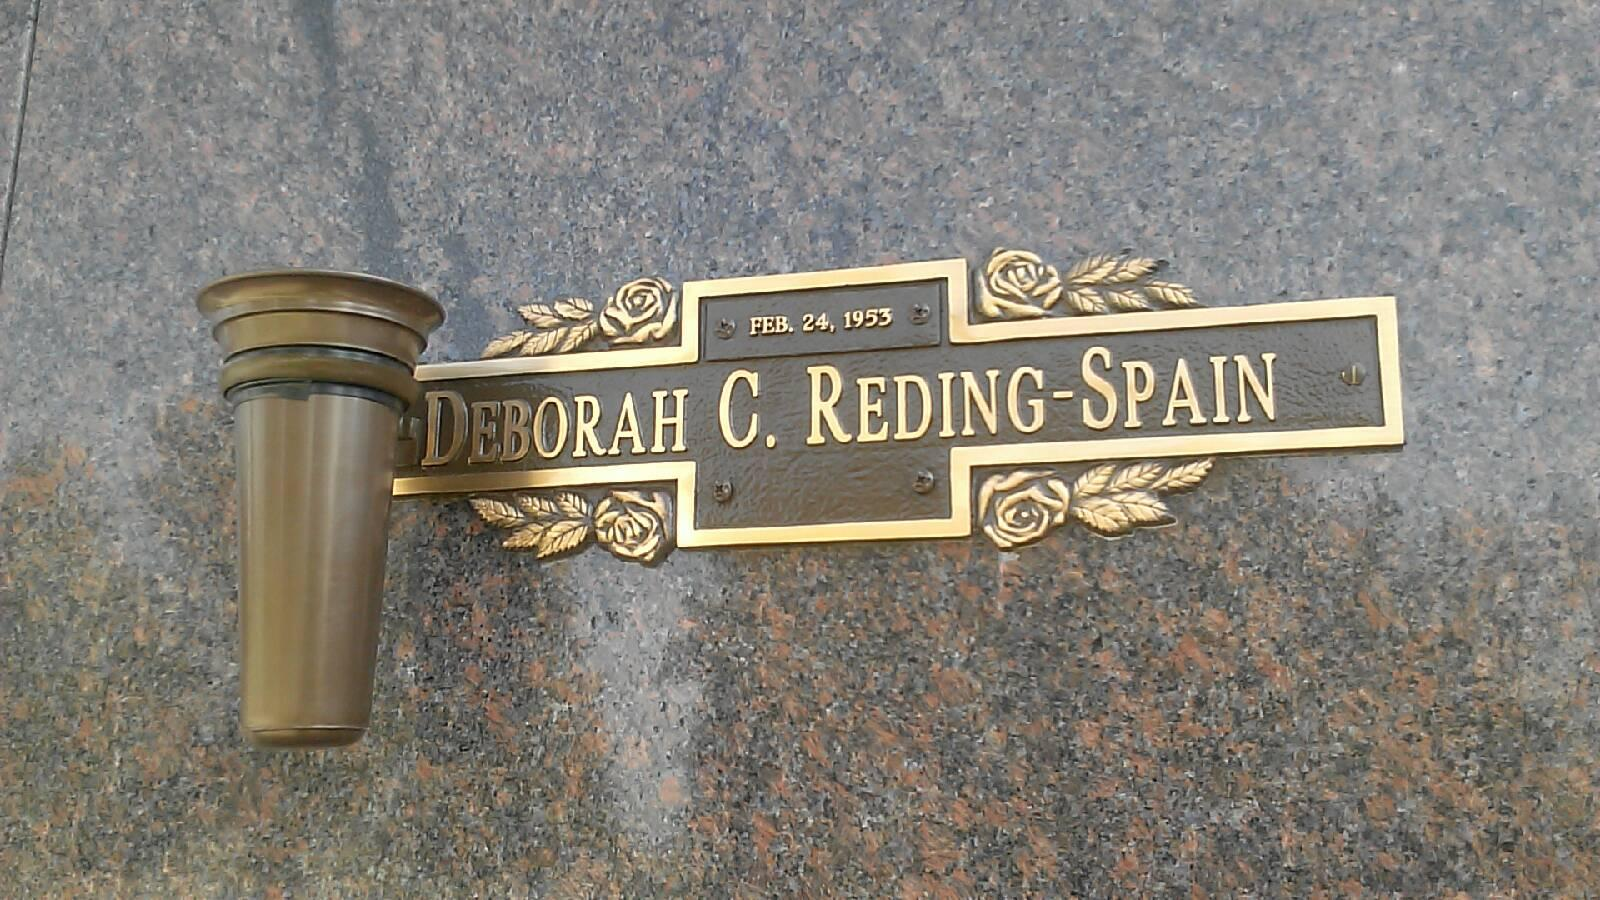plaque: (205, 246, 1401, 564)
